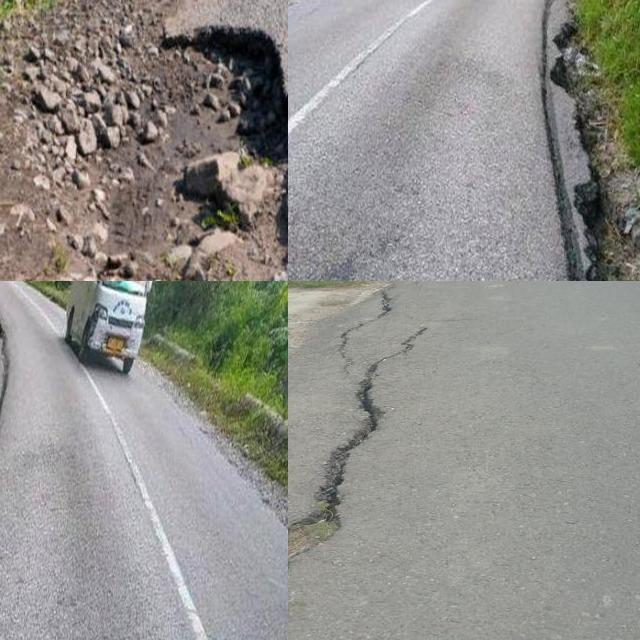Memanjang: (288, 318, 449, 640)
Pinggir: (116, 8, 288, 281), (524, 0, 640, 281)
